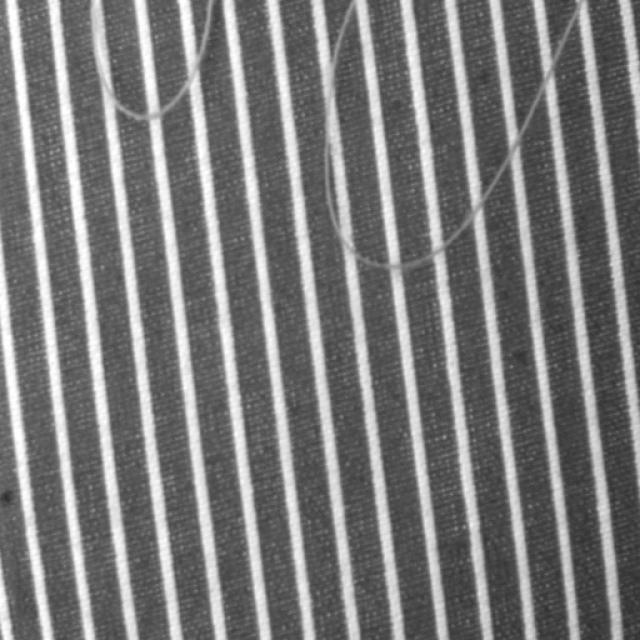Foreign-Body-Defect: (325, 0, 586, 271), (88, 0, 221, 122)
